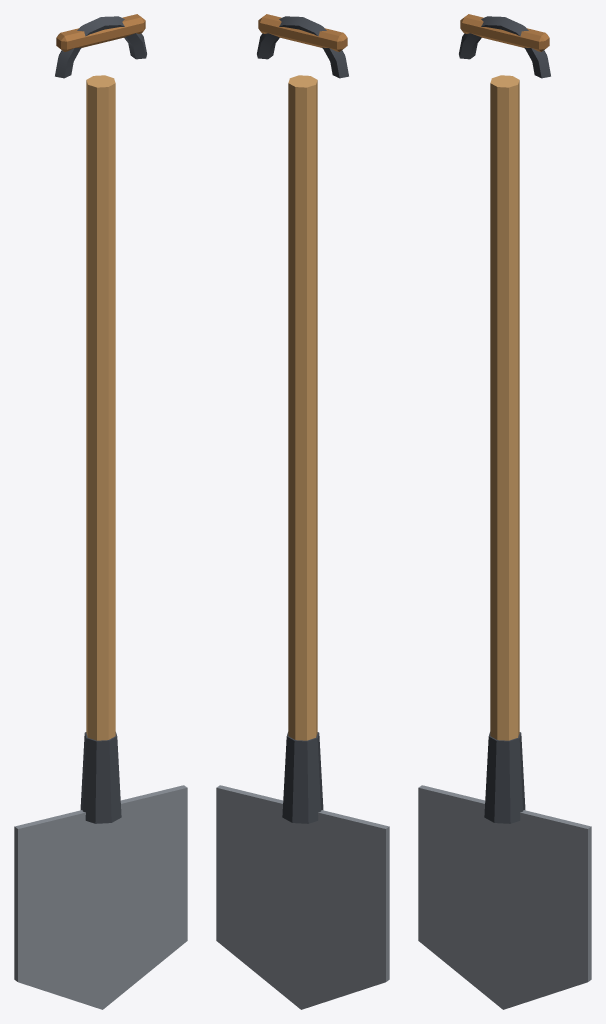
Rendered from SM_Shovel.glb.
3 renders of one model, left to right at view 1: azimuth 30°, elevation 25°; view 2: azimuth 150°, elevation 25°; view 3: azimuth 330°, elevation 25°, orthographic.
Visible parts, largest first — view 1: SM_Shovel; view 2: SM_Shovel; view 3: SM_Shovel.
Boxes of the visible parts, bbox=[...] form: SM_Shovel: bbox=[14, 14, 187, 1009]; SM_Shovel: bbox=[216, 14, 389, 1009]; SM_Shovel: bbox=[418, 14, 591, 1009].
Bounding box in the file's own units: 0.22 × 1.23 × 0.048.
1 material, 1 textured.
